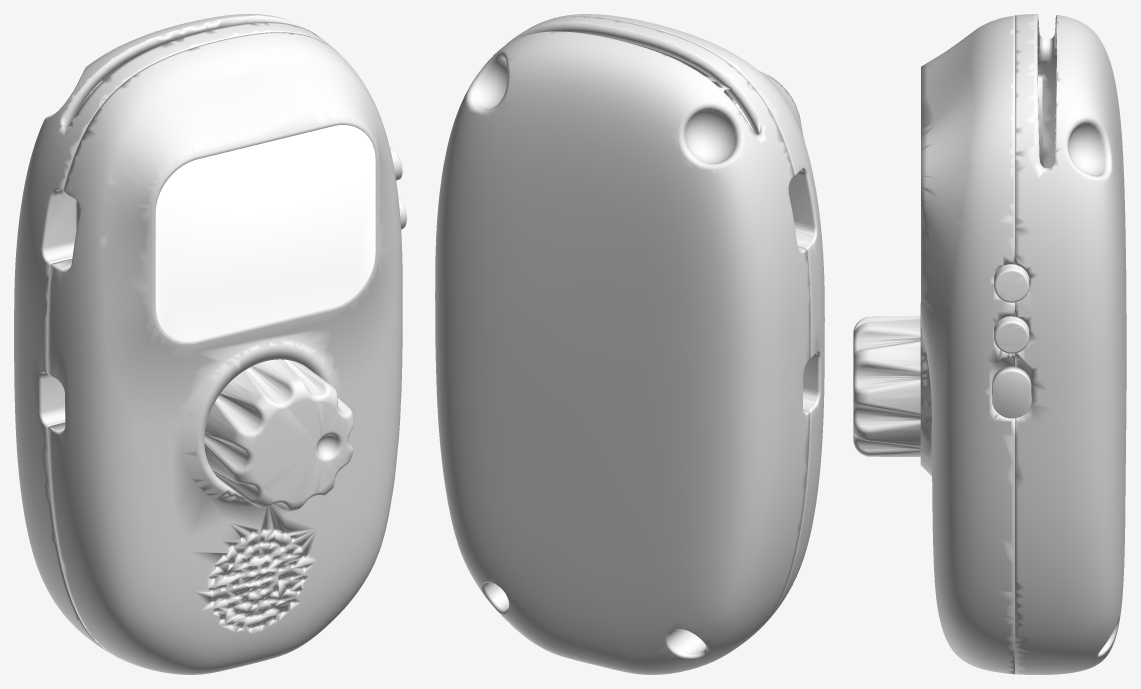
The model's file is cheeko.optimized.glb.
The picture shows the model from 3 angles, left to right: view 1: azimuth 30°, elevation 25°; view 2: azimuth 150°, elevation 25°; view 3: azimuth 270°, elevation 25°; orthographic projection.
Visible parts, largest first — view 1: Back.002, Display.002; view 2: Back.002; view 3: Back.002.
Boxes of the visible parts, x1,y1,x2,y2 form: Back.002: (14, 14, 406, 674); Display.002: (155, 125, 375, 341); Back.002: (435, 14, 824, 674); Back.002: (853, 14, 1126, 674).
Size of the model in its own units: 0.0712 by 0.1186 by 0.0487.
5 materials, 5 textured.
